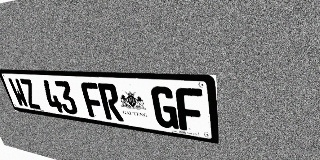3: (54, 81, 79, 115)
4: (40, 80, 64, 113)
F: (175, 87, 205, 133), (80, 82, 106, 119)
G: (150, 86, 179, 129)
R: (97, 83, 124, 122)
W: (7, 78, 30, 108)
Z: (18, 79, 42, 110)
